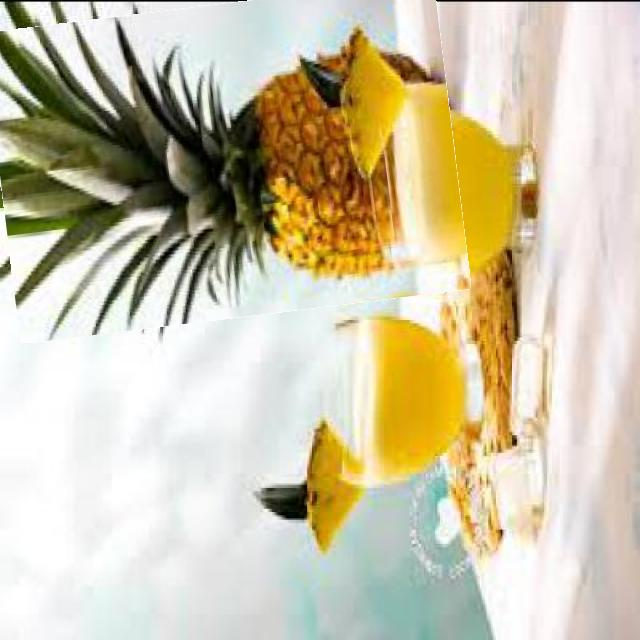Pineapple: (0, 0, 462, 330)
